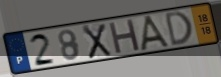2: (28, 32, 56, 66)
8: (57, 28, 81, 62)
A: (139, 14, 174, 52)
D: (164, 9, 195, 48)
H: (107, 18, 142, 56)
X: (81, 22, 113, 60)
